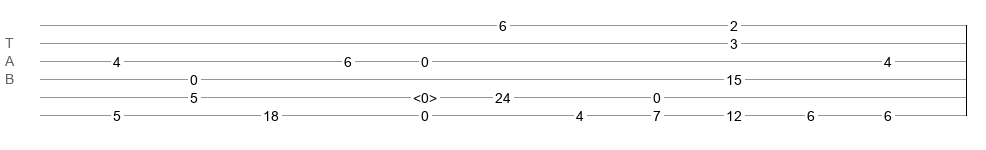0: (190, 72, 198, 82), (421, 108, 429, 118), (421, 54, 429, 64), (653, 90, 661, 100)
12: (726, 108, 742, 118)
15: (726, 72, 742, 82)
18: (263, 108, 279, 118)
2: (730, 18, 738, 28)
24: (495, 90, 511, 100)
3: (730, 36, 738, 46)
4: (113, 54, 121, 64), (576, 108, 584, 118), (884, 54, 892, 64)
5: (113, 108, 121, 118), (190, 90, 198, 100)
6: (344, 54, 352, 64), (499, 18, 507, 28), (807, 108, 815, 118), (884, 108, 892, 118)
7: (653, 108, 661, 118)
harmonic: (413, 90, 437, 100)
